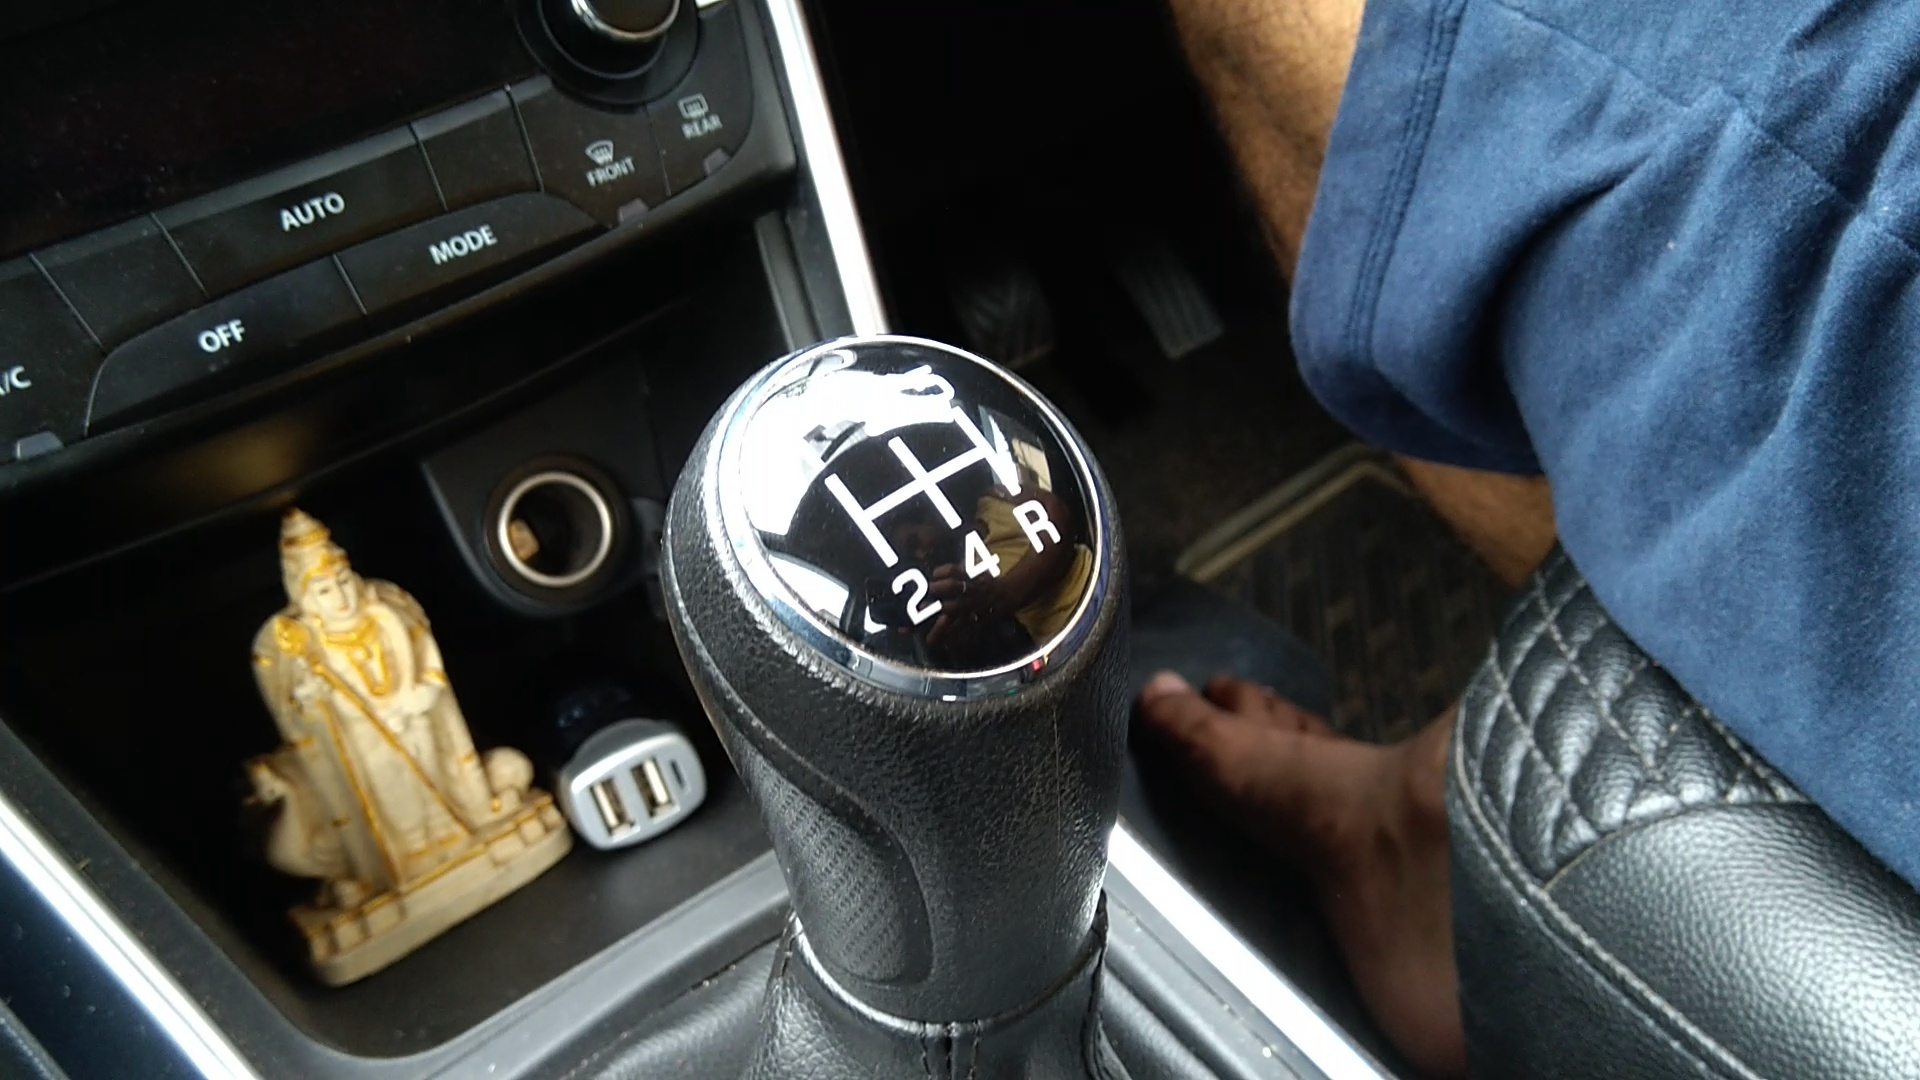manual_gear: (659, 330, 1139, 1044)
